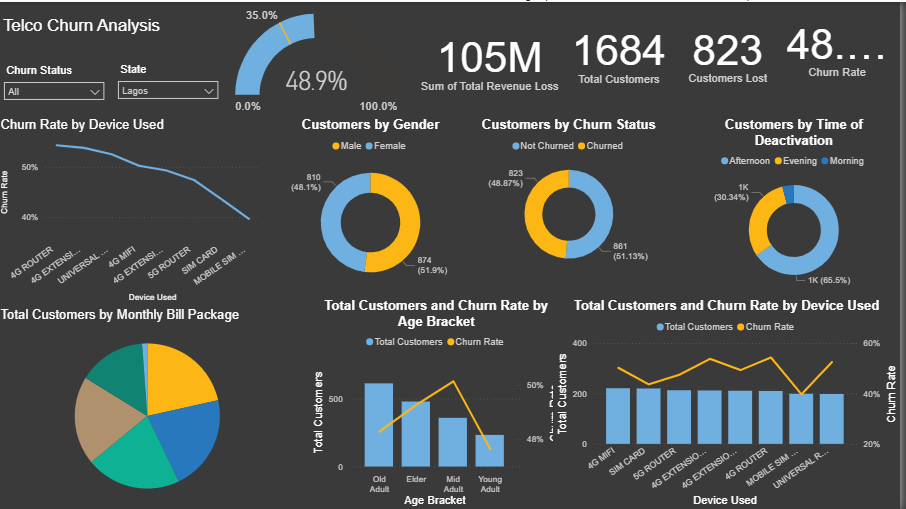

What the dashboard file says about the page in this screenshot:
{"tool":"powerbi","page":{"name":"Customer View","canvas":[1280,720],"ordinal":0},"visuals":[{"type":"card","fields":{"Values":["customer churn.Total Customers"]},"box":[802.7,16.9,158.5,109.6],"z":0},{"type":"card","fields":{"Values":["customer churn.Churn Rate"]},"box":[1102.9,0,177.1,126.5],"z":1000},{"type":"card","fields":{"Values":["customer churn.Customers Lost"]},"box":[961.3,8.4,150.1,126.5],"z":2000},{"type":"donutChart","title":" Customers by Gender","fields":{"Y":["customer churn.Total Customers"],"Category":["customer churn.Gender"]},"box":[377.8,163.6,301.9,249.6],"z":3000},{"type":"donutChart","title":" Customers by Churn Status","fields":{"Y":["customer churn.Total Customers"],"Category":["customer churn.Churn Status"]},"box":[661.1,163.6,300.2,226],"z":4000},{"type":"donutChart","title":" Customers by Time of Deactivation","fields":{"Y":["customer churn.Total Customers"],"Category":["customer churn.Time Of The Day"]},"box":[979.8,163.6,300.2,249.6],"z":5000},{"type":"lineStackedColumnComboChart","fields":{"Category":["customer churn.Age Bracket"],"Y":["customer churn.Total Customers"],"Y2":["customer churn.Churn Rate"]},"box":[441.8,419.9,360.9,300.2],"z":6000},{"type":"lineStackedColumnComboChart","fields":{"Y":["customer churn.Total Customers"],"Y2":["customer churn.Churn Rate"],"Category":["customer churn.Device Used"]},"box":[787.6,419.9,492.4,300.2],"z":7000},{"type":"slicer","fields":{"Values":["customer churn.Churn Status"]},"box":[0,84.3,161.9,79.3],"z":8000},{"type":"gauge","fields":{"Y":["customer churn.Churn Rate"],"MinValue":["Min(customer churn.Min Churn Rate)"],"MaxValue":["Min(customer churn.Max Churn Rate)"],"TargetValue":["Max(customer churn.Target Churn Rate)"]},"box":[320.4,0,264.8,163.6],"z":9000},{"type":"pieChart","fields":{"Category":["customer churn.Monthly Bill Package"],"Y":["customer churn.Total Customers"]},"box":[0,431.7,426.7,288.4],"z":10000},{"type":"lineChart","fields":{"Y":["customer churn.Churn Rate"],"Category":["customer churn.Device Used"]},"box":[0,163.6,377.8,268.1],"z":11000},{"type":"textbox","box":[0,13.5,239.5,59],"z":12000},{"type":"card","fields":{"Values":["Sum(customer churn.Total Revenue Loss)"]},"box":[585.2,1.7,226,161.9],"z":12001},{"type":"slicer","fields":{"Values":["customer churn.State"]},"box":[161.9,82.6,161.9,79.3],"z":12002}]}

Visuals, with their boxes in screenshot pixels (x1, y1, x2, y2), scaled from the page's 1280x720 canvas onto the 906x509 screenshot:
card - customer churn.Total Customers: BBox(568, 12, 680, 89)
card - customer churn.Churn Rate: BBox(781, 0, 905, 89)
card - customer churn.Customers Lost: BBox(680, 6, 787, 95)
" Customers by Gender" donutChart: BBox(267, 116, 481, 292)
" Customers by Churn Status" donutChart: BBox(468, 116, 680, 275)
" Customers by Time of Deactivation" donutChart: BBox(694, 116, 905, 292)
lineStackedColumnComboChart - customer churn.Age Bracket x customer churn.Total Customers: BBox(313, 297, 568, 508)
lineStackedColumnComboChart - customer churn.Total Customers x customer churn.Churn Rate: BBox(557, 297, 905, 508)
slicer - customer churn.Churn Status: BBox(0, 60, 115, 116)
gauge - customer churn.Churn Rate x Min(customer churn.Min Churn Rate): BBox(227, 0, 414, 116)
pieChart - customer churn.Monthly Bill Package x customer churn.Total Customers: BBox(0, 305, 302, 508)
lineChart - customer churn.Churn Rate x customer churn.Device Used: BBox(0, 116, 267, 305)
textbox: BBox(0, 10, 170, 51)
card - Sum(customer churn.Total Revenue Loss): BBox(414, 1, 574, 116)
slicer - customer churn.State: BBox(115, 58, 229, 114)
